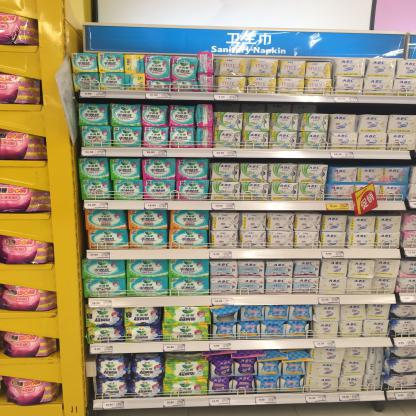Void: (218, 102, 414, 113), (335, 160, 412, 166)
